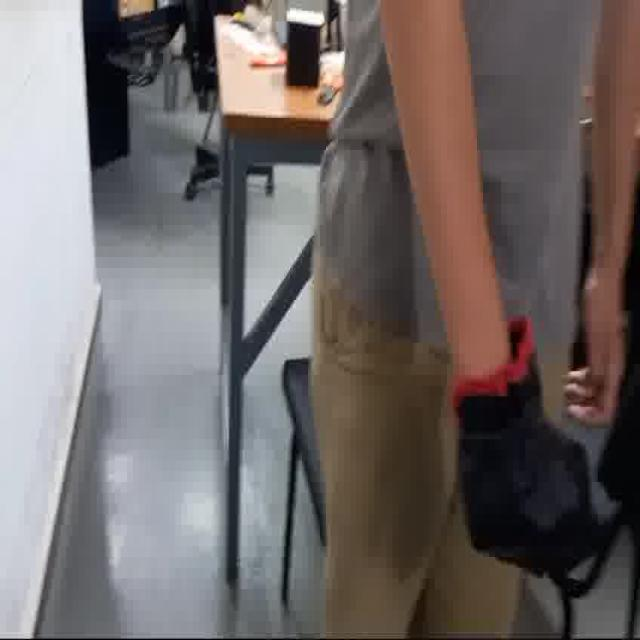Gloves: (452, 374, 603, 585)
